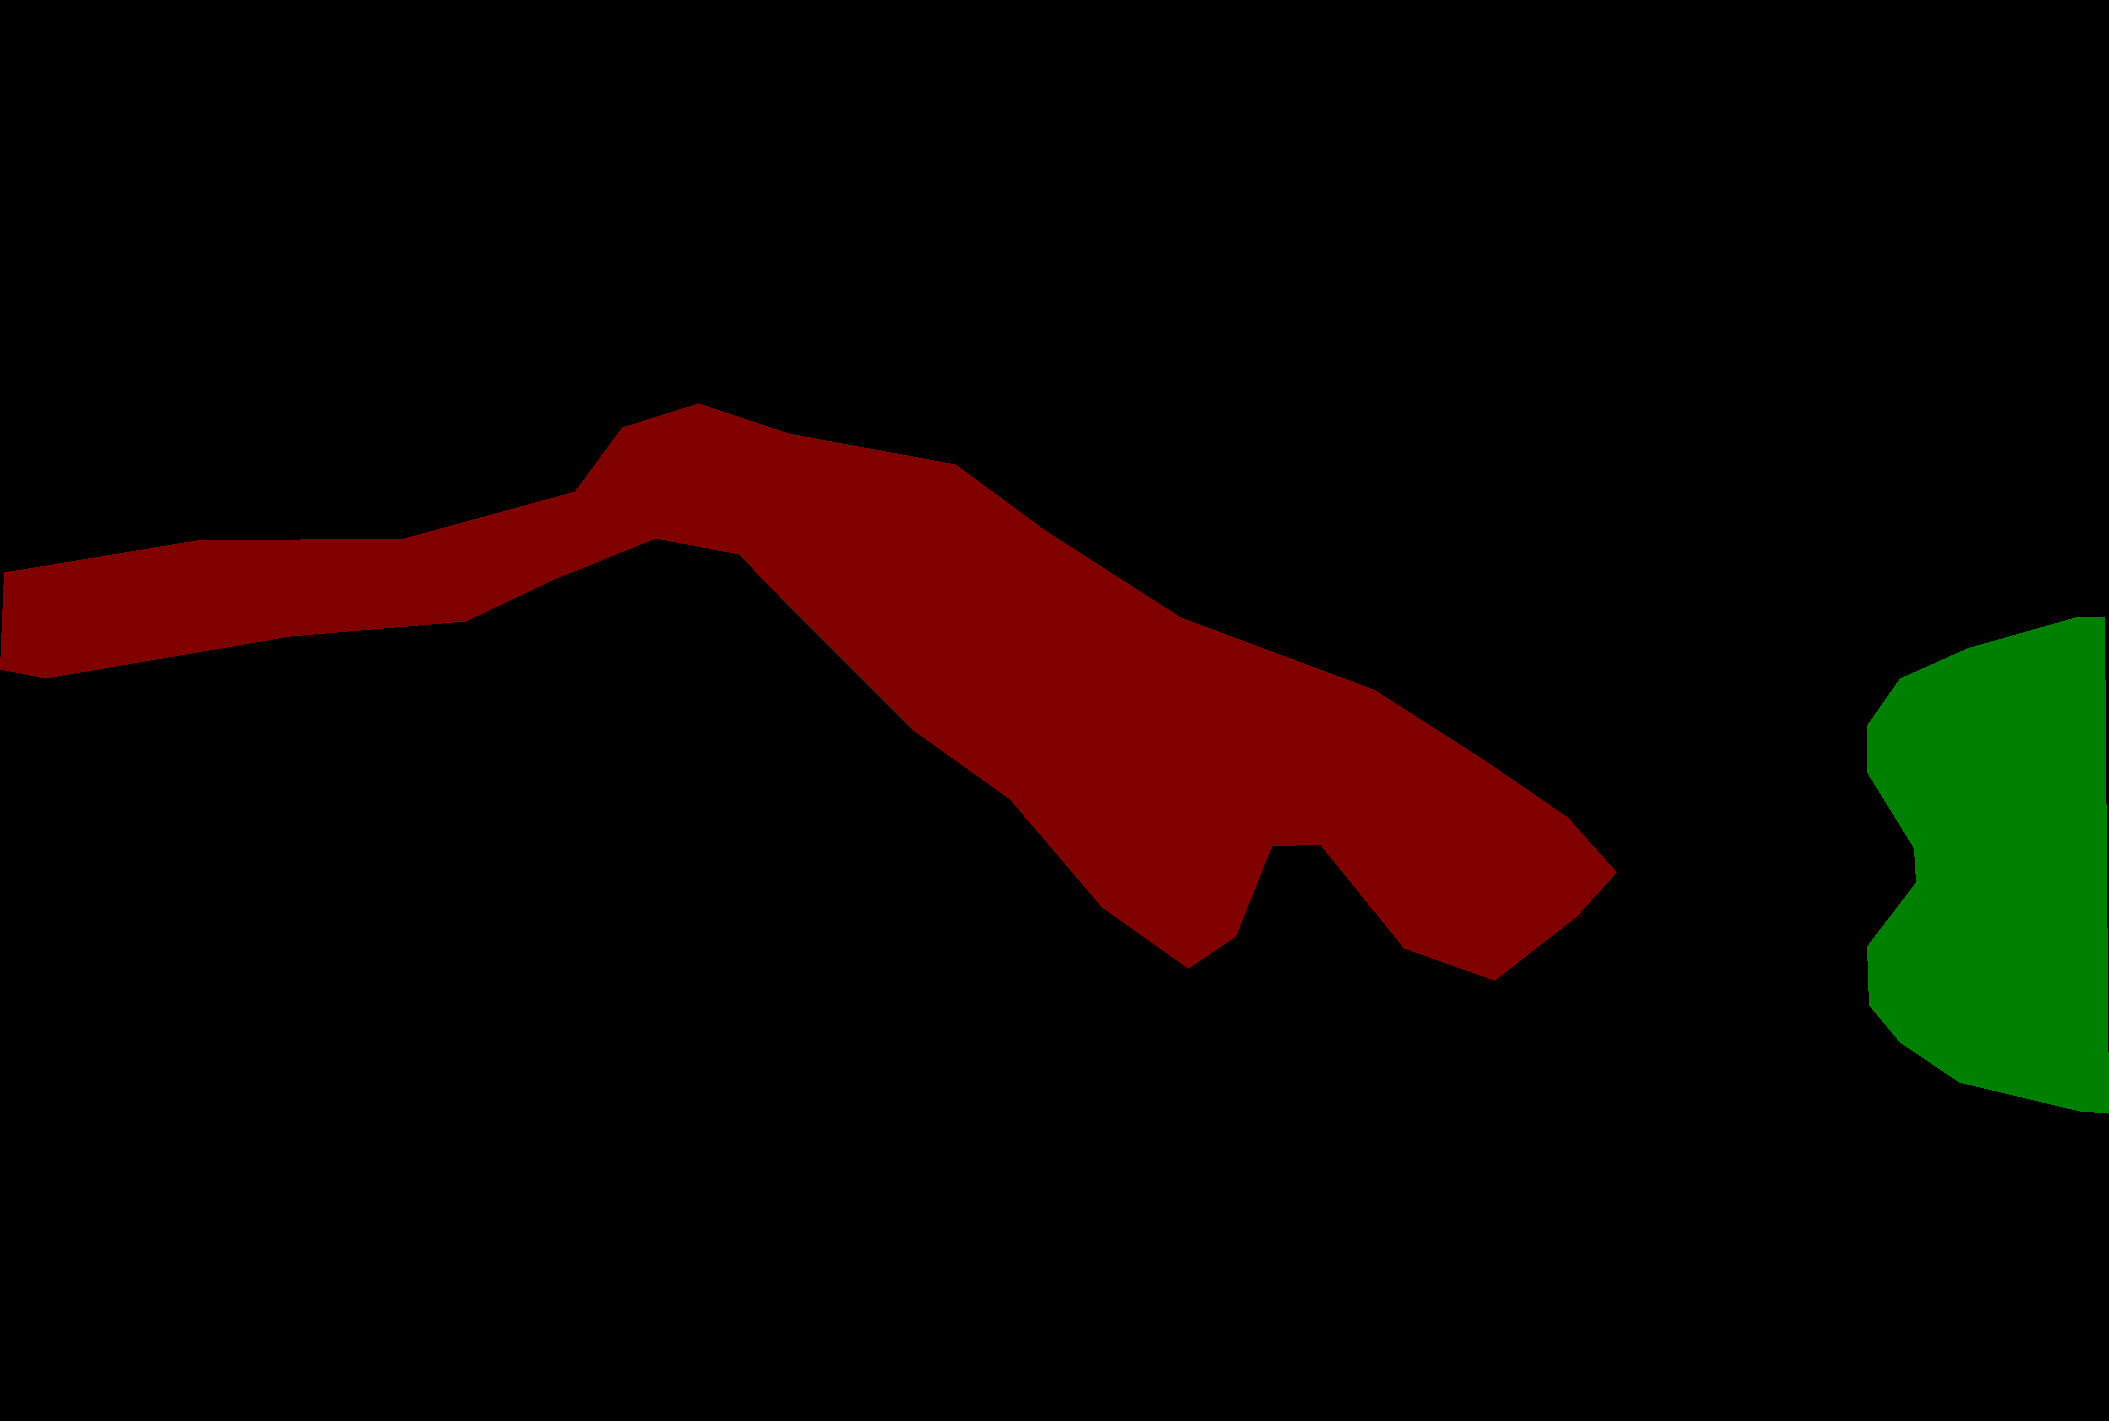fire: (0, 403, 1616, 980), (1866, 617, 2107, 1113)
